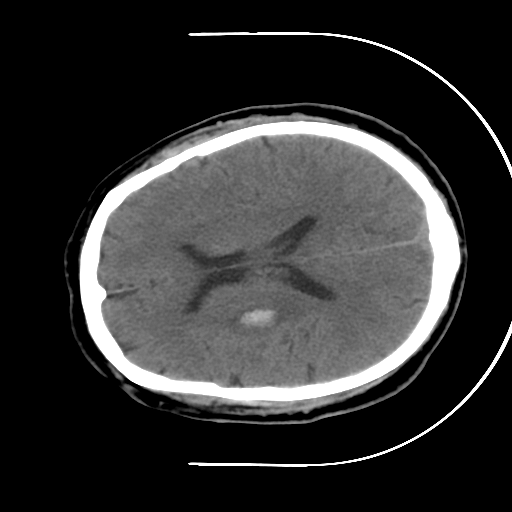a: (224, 296, 295, 343)
